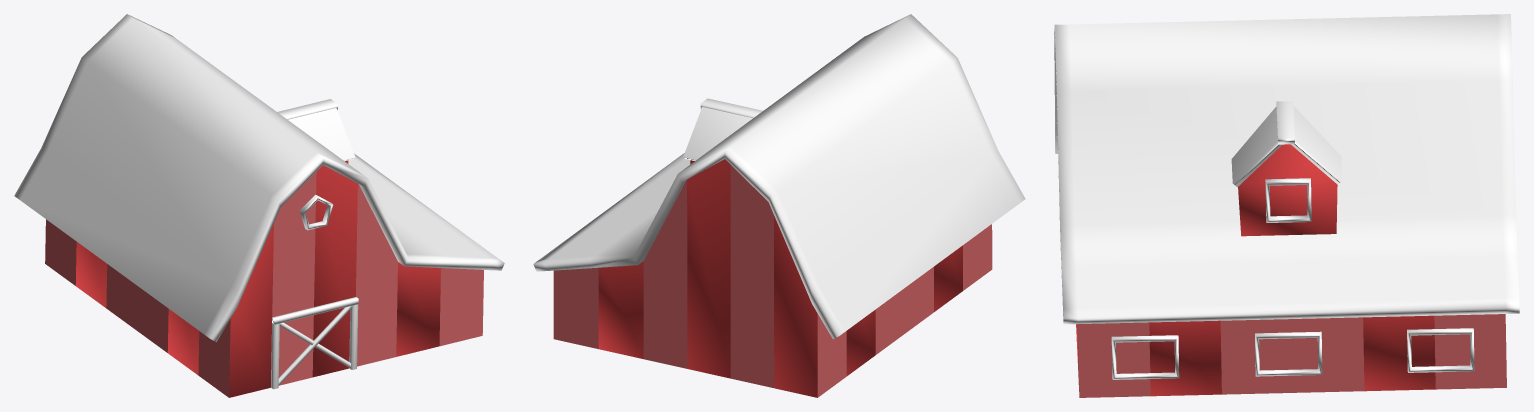
File: LowPolyBarn.fbx
The picture shows the model from 3 angles, left to right: view 1: azimuth 30°, elevation 25°; view 2: azimuth 150°, elevation 25°; view 3: azimuth 270°, elevation 25°; orthographic projection. The views are drawn at different scales.
Parts seen in each view (by area): view 1: Cube.049; view 2: Cube.049; view 3: Cube.049.
Part boxes in pixels (box(x1,y1,x2,y2)): Cube.049: box(14, 14, 504, 397); Cube.049: box(533, 14, 1025, 397); Cube.049: box(1054, 14, 1519, 397).
Size of the model in its own units: 217 by 159 by 239.
